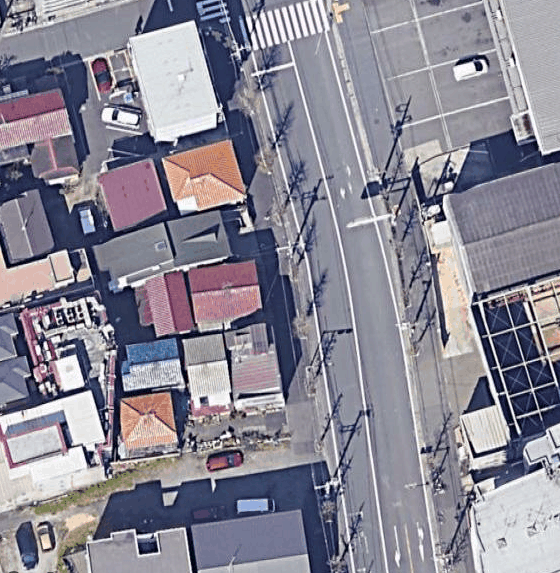flatroof: (118, 12, 229, 143), (499, 0, 558, 152)
